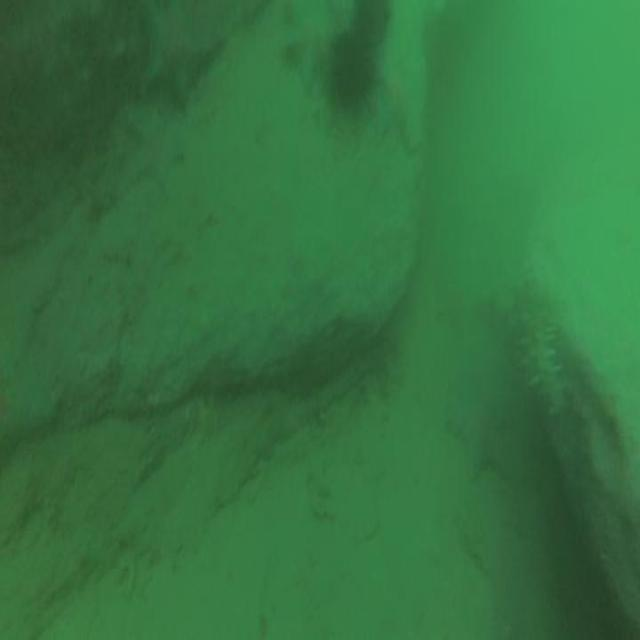echinus: (319, 13, 395, 134)
holothurian: (514, 267, 573, 430)
starfish: (443, 368, 519, 488)
